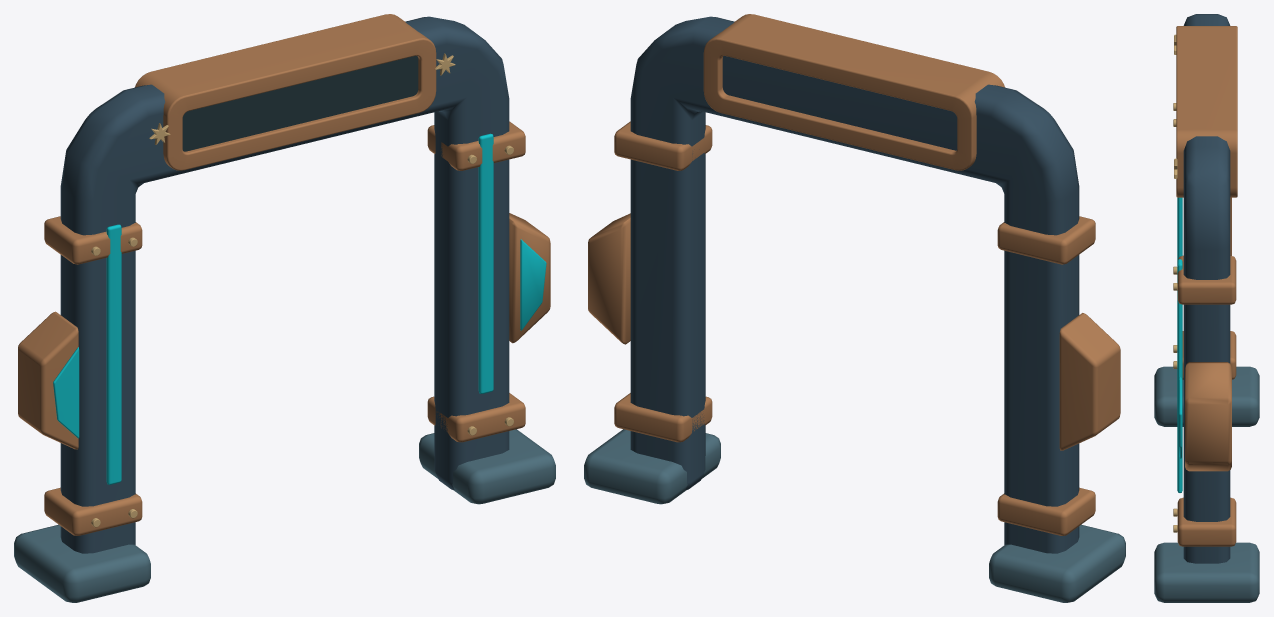
Rendered from STURMBASTION_GATE_FRAME.hi.glb.
The picture shows the model from 3 angles, left to right: view 1: azimuth 30°, elevation 25°; view 2: azimuth 150°, elevation 25°; view 3: azimuth 270°, elevation 25°; orthographic projection. The views are drawn at different scales.
Visible parts, largest first — view 1: STURMBASTION_GATE_FRAME_Geometry; view 2: STURMBASTION_GATE_FRAME_Geometry; view 3: STURMBASTION_GATE_FRAME_Geometry.
Boxes of the visible parts, <box> form: STURMBASTION_GATE_FRAME_Geometry: <box>14,14,555,602</box>; STURMBASTION_GATE_FRAME_Geometry: <box>584,14,1125,602</box>; STURMBASTION_GATE_FRAME_Geometry: <box>1154,14,1259,602</box>.
Size of the model in its own units: 3.58 by 3.17 by 0.72.
